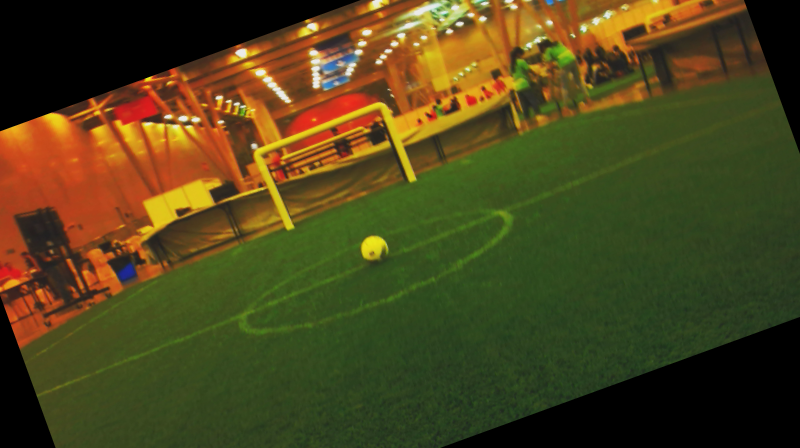post: (278, 215, 300, 237), (402, 168, 422, 190)
